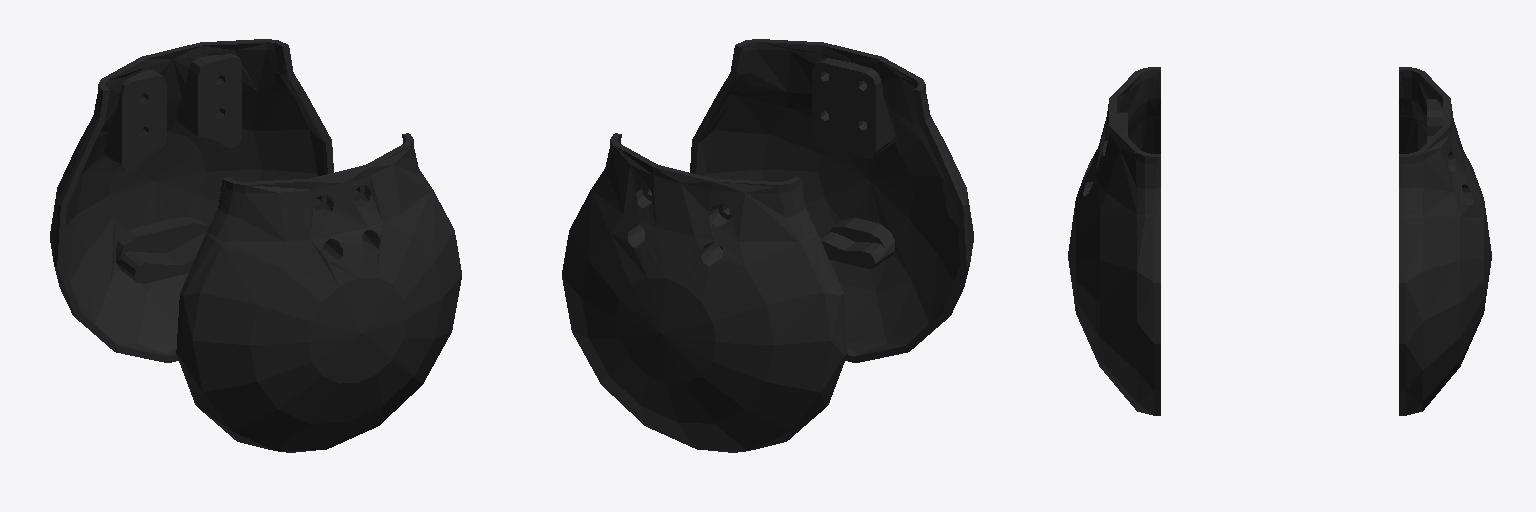
Rendered from asm0001_vrml_08_prt.obj.
The picture shows the model from 3 angles: view 1: azimuth 30°, elevation 25°; view 2: azimuth 150°, elevation 25°; view 3: azimuth 270°, elevation 25°; orthographic projection.
Parts seen in each view (by area): view 1: ShapeIndexedFaceSet.001_ShapeIndexedFaceSet, ShapeIndexedFaceSet_ShapeIndexedFaceSet.023; view 2: ShapeIndexedFaceSet_ShapeIndexedFaceSet.023, ShapeIndexedFaceSet.001_ShapeIndexedFaceSet; view 3: ShapeIndexedFaceSet_ShapeIndexedFaceSet.023, ShapeIndexedFaceSet.001_ShapeIndexedFaceSet.
Boxes of the visible parts, x1=… form: ShapeIndexedFaceSet.001_ShapeIndexedFaceSet: x1=176, y1=133, x2=461, y2=452; ShapeIndexedFaceSet_ShapeIndexedFaceSet.023: x1=50, y1=39, x2=333, y2=362; ShapeIndexedFaceSet_ShapeIndexedFaceSet.023: x1=562, y1=133, x2=847, y2=452; ShapeIndexedFaceSet.001_ShapeIndexedFaceSet: x1=690, y1=39, x2=973, y2=362; ShapeIndexedFaceSet_ShapeIndexedFaceSet.023: x1=1399, y1=67, x2=1491, y2=415; ShapeIndexedFaceSet.001_ShapeIndexedFaceSet: x1=1068, y1=67, x2=1160, y2=415.
Bounding box in the file's own units: 2.24 × 2.21 × 2.95.